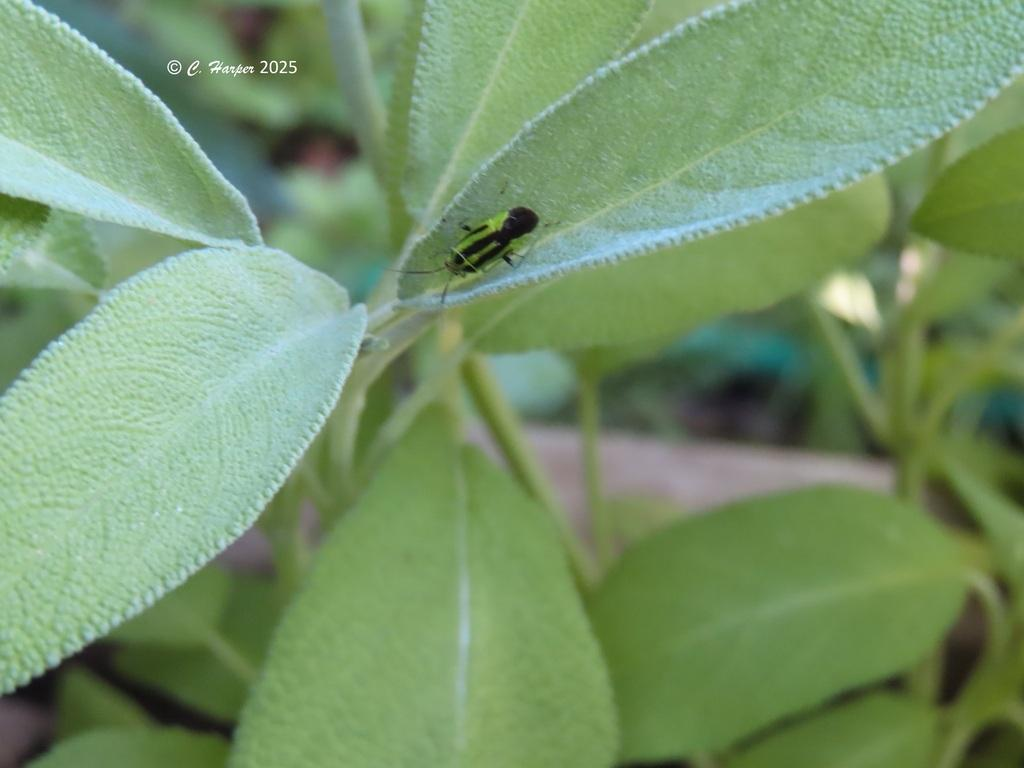plant_bugs: (363, 177, 567, 321)
